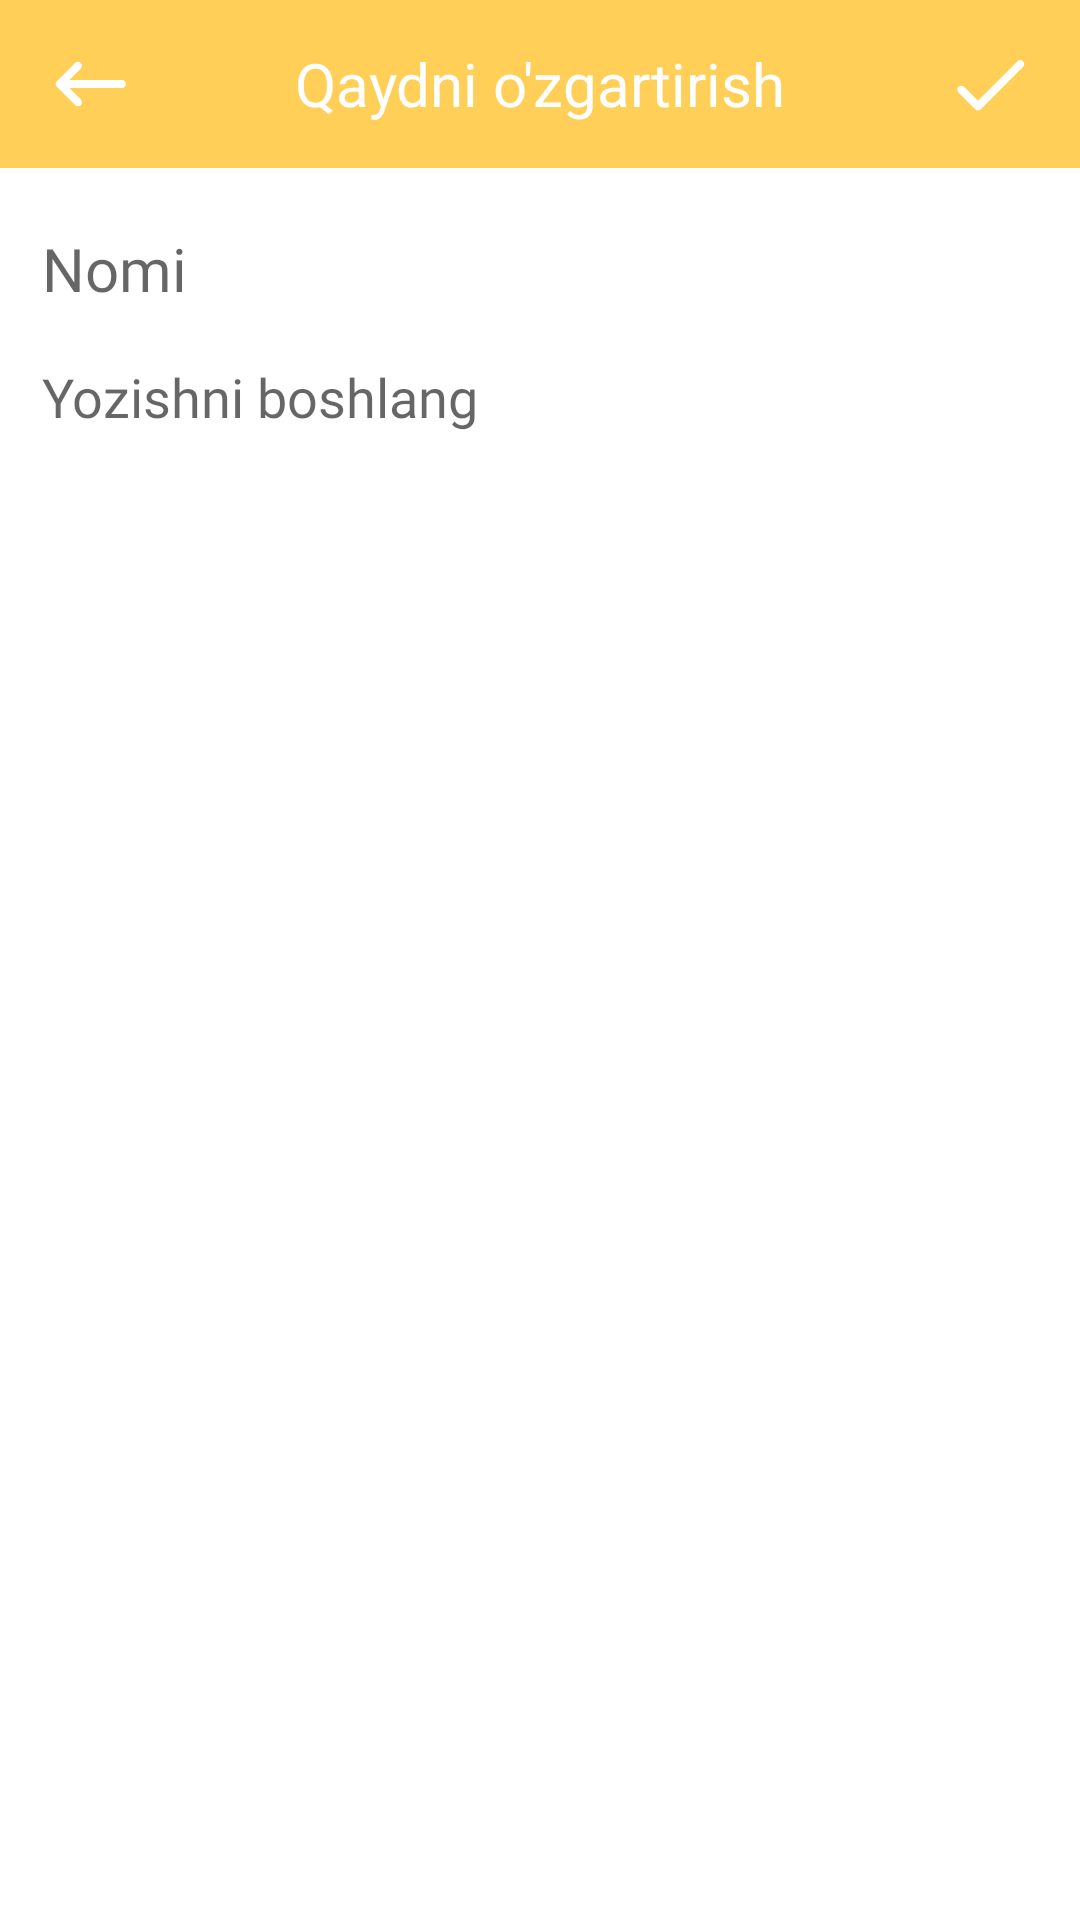

Named icons in this screenshot (1080 x 1920) and their bounding boxes, (x1, y1, x2, y2):
check: (957, 60, 1025, 111)
